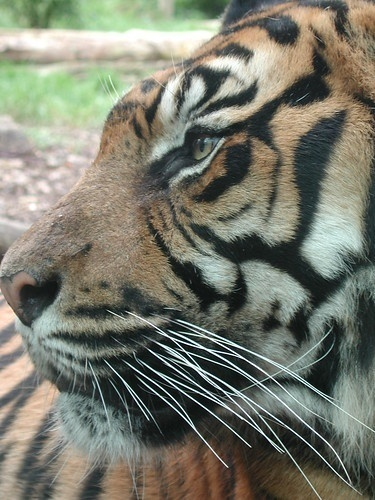tigre: (1, 1, 374, 498)
